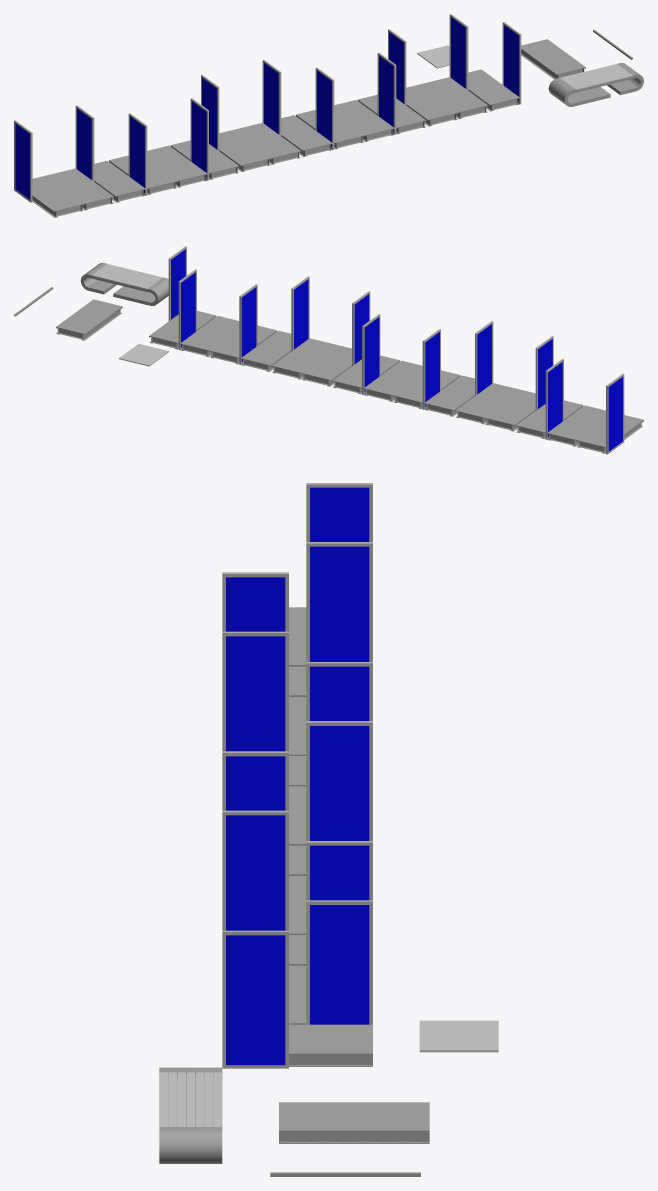
The model's file is aaaa.gltf.
The picture shows the model from 3 angles, top to bottom: view 1: azimuth 30°, elevation 25°; view 2: azimuth 150°, elevation 25°; view 3: azimuth 270°, elevation 25°; orthographic projection. The views are drawn at different scales.
Parts seen in each view (by area): view 1: BANCO1 (1), 3DGeom~7, 3DGeom~8, 3DGeom~9, object 6, object 5; view 2: BANCO1 (1), 3DGeom~7, 3DGeom~8, 3DGeom~9, object 5, object 6; view 3: BANCO1 (1), 3DGeom~7, 3DGeom~9, 3DGeom~8, object 6, object 5.
Part boxes in pixels (box(x1,y1,x2,y2)): BANCO1 (1): box(14, 14, 625, 202); 3DGeom~7: box(32, 30, 632, 217); 3DGeom~8: box(170, 100, 394, 179); 3DGeom~9: box(357, 63, 633, 134); object 6: box(558, 68, 643, 106); object 5: box(567, 70, 632, 90); BANCO1 (1): box(91, 246, 624, 454); 3DGeom~7: box(14, 287, 643, 453); 3DGeom~8: box(243, 338, 474, 416); 3DGeom~9: box(80, 269, 291, 371); object 5: box(99, 263, 162, 283); object 6: box(91, 262, 168, 297); BANCO1 (1): box(186, 483, 498, 1126); 3DGeom~7: box(270, 607, 429, 1176); 3DGeom~9: box(186, 935, 372, 1163); 3DGeom~8: box(289, 756, 306, 934); object 6: box(159, 1067, 195, 1163); object 5: box(159, 1072, 194, 1126).
Bounding box in the file's own units: 18.7 × 2.1 × 4.72.
